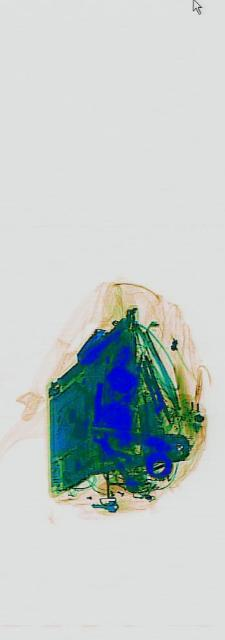Pliers: (90, 424, 187, 472)
Wrench: (92, 416, 137, 499)
